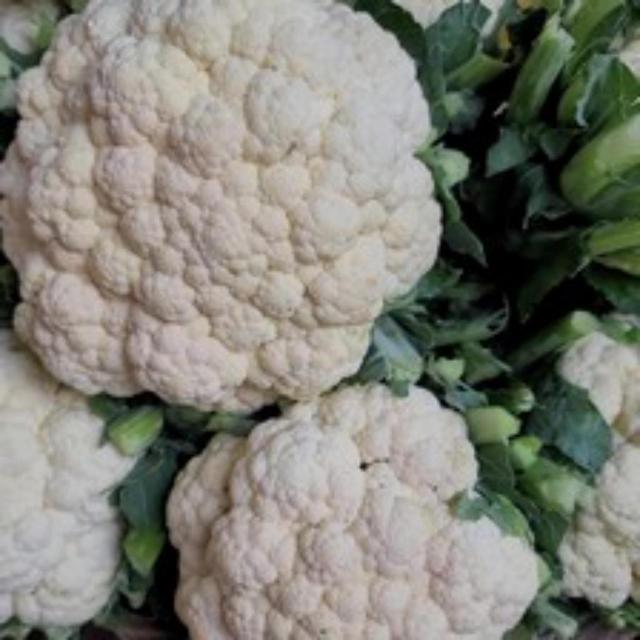cauliflower: (0, 0, 494, 434)
